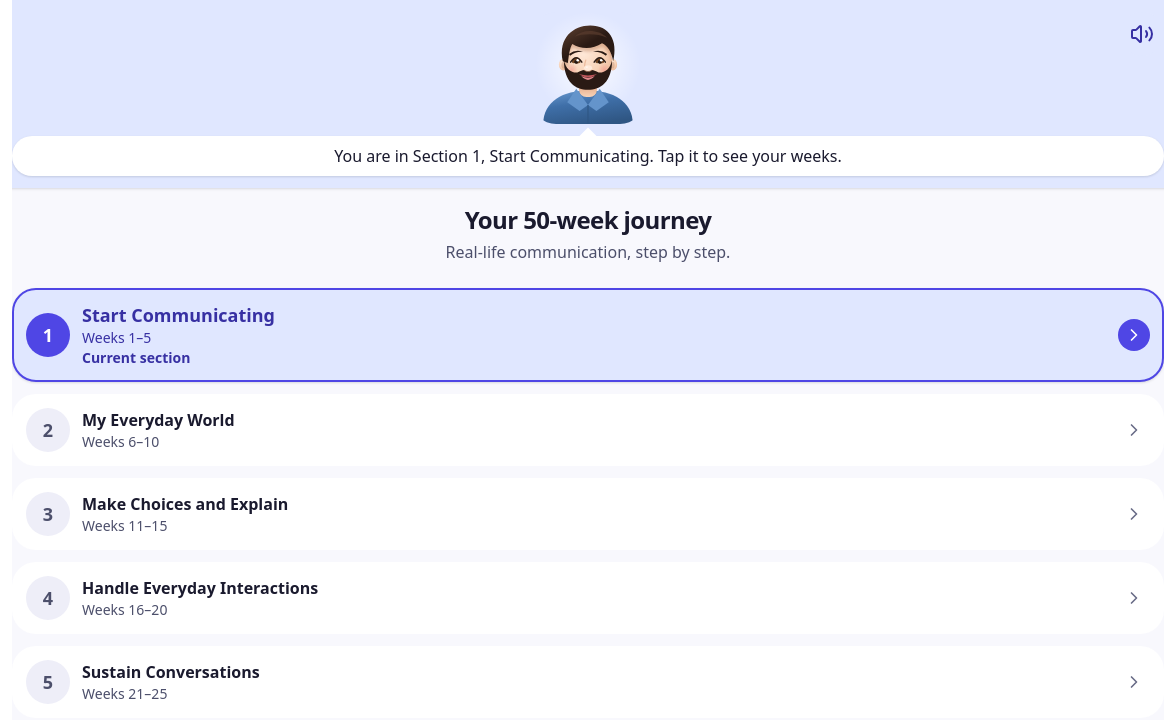
Scenario: HomePage › opens any section, none of them locked
The image size is (1176, 720).
Expected: the heading "Your 50-week journey" is shown, [465,203,711,236]
Step 1. Click the link "5 Sustain Conversations Weeks 21–25" → x=48, y=682, box [12,646,1164,718]
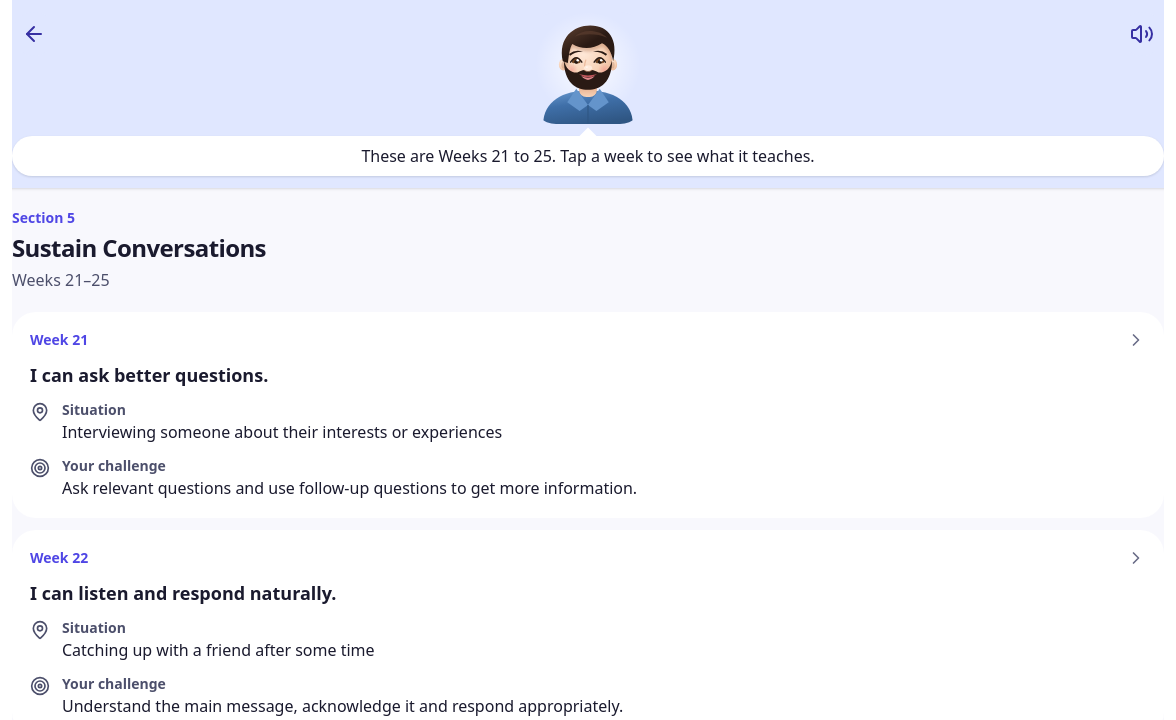
Expected: the heading "Sustain Conversations" is shown, [12,231,266,264]
